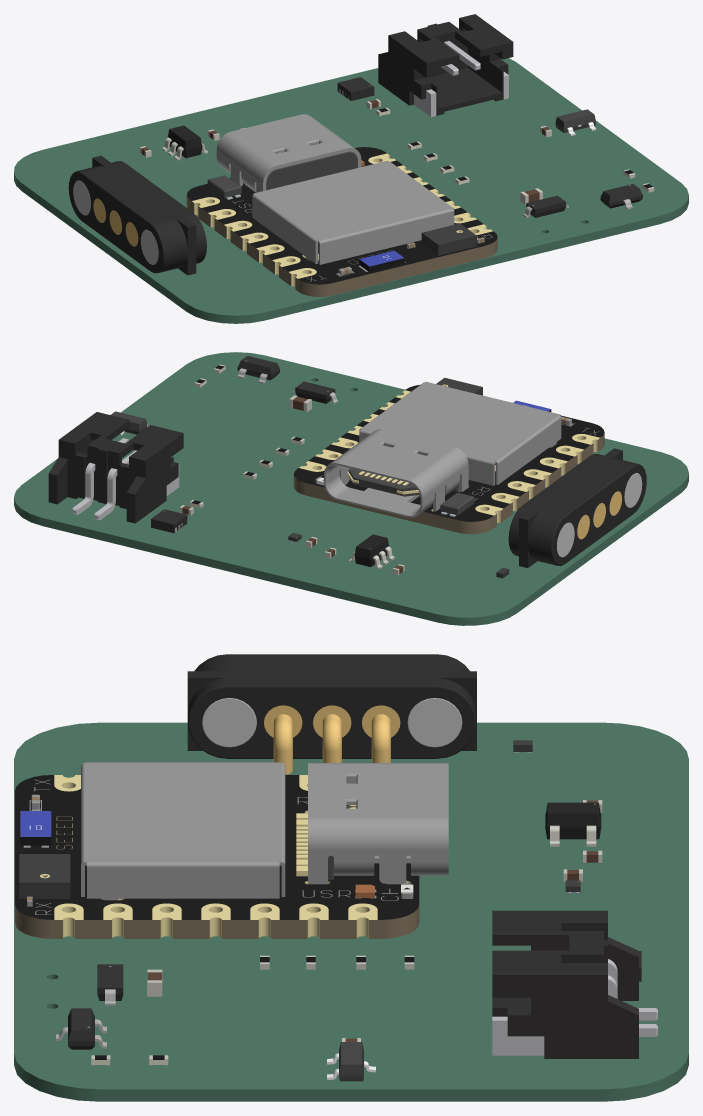
File: wearable_tracker.glb
3 views of the same model, one above another, from view 1: azimuth 30°, elevation 25°; view 2: azimuth 150°, elevation 25°; view 3: azimuth 270°, elevation 25° (orthographic). The views are drawn at different scales.
Visible parts, largest first — view 1: =>[0:1:1:81], Shield:1, =>0:1:1:73, temp_import.SLDPRT, Housing:1, CHAMFER9:1, CUT-EXTRUDE5:1, =>0:1:1:76, =>[0:1:1:18], Magnet:1, =>[0:1:1:7], Pins:1 (+5 smaller); view 2: =>[0:1:1:81], Shield:1, temp_import.SLDPRT, =>0:1:1:73, Housing:1, CHAMFER9:1, =>[0:1:1:18], Magnet:1, MIRROR2:1, =>[0:1:1:7], Pins:1, =>[0:1:1:33] (+2 smaller); view 3: =>[0:1:1:81], Shield:1, =>0:1:1:73, Housing:1, temp_import.SLDPRT, CHAMFER9:1, Pins:1, Magnet:1, =>0:1:1:76, =>[0:1:1:18], =>[0:1:1:7], ANT1:1 (+2 smaller).
Part boxes in pixels (left/top/right/bottom): =>[0:1:1:81]: left=14, top=58, right=688, bottom=323; Shield:1: left=252, top=160, right=454, bottom=264; =>0:1:1:73: left=186, top=147, right=497, bottom=296; temp_import.SLDPRT: left=378, top=14, right=513, bottom=117; Housing:1: left=68, top=155, right=206, bottom=275; CHAMFER9:1: left=216, top=114, right=361, bottom=192; CUT-EXTRUDE5:1: left=266, top=151, right=357, bottom=190; =>0:1:1:76: left=421, top=223, right=476, bottom=255; =>[0:1:1:18]: left=162, top=125, right=207, bottom=160; Magnet:1: left=73, top=180, right=158, bottom=264; =>[0:1:1:7]: left=600, top=184, right=642, bottom=209; Pins:1: left=93, top=198, right=138, bottom=246; =>[0:1:1:81]: left=14, top=352, right=688, bottom=625; Shield:1: left=359, top=381, right=561, bottom=485; temp_import.SLDPRT: left=48, top=412, right=183, bottom=523; =>0:1:1:73: left=293, top=385, right=604, bottom=534; Housing:1: left=508, top=448, right=646, bottom=567; CHAMFER9:1: left=324, top=429, right=468, bottom=517; =>[0:1:1:18]: left=349, top=534, right=394, bottom=569; Magnet:1: left=557, top=473, right=642, bottom=557; MIRROR2:1: left=347, top=468, right=419, bottom=496; =>[0:1:1:7]: left=237, top=356, right=279, bottom=383; Pins:1: left=577, top=491, right=621, bottom=539; =>[0:1:1:33]: left=292, top=381, right=338, bottom=403; =>[0:1:1:81]: left=14, top=722, right=688, bottom=1101; Shield:1: left=81, top=762, right=285, bottom=900; =>0:1:1:73: left=15, top=775, right=419, bottom=938; Housing:1: left=187, top=654, right=476, bottom=758; temp_import.SLDPRT: left=492, top=910, right=657, bottom=1058; CHAMFER9:1: left=308, top=763, right=448, bottom=884; Pins:1: left=264, top=705, right=400, bottom=774; Magnet:1: left=202, top=698, right=462, bottom=747; =>0:1:1:76: left=19, top=854, right=70, bottom=898; =>[0:1:1:18]: left=545, top=802, right=601, bottom=846; =>[0:1:1:7]: left=56, top=1008, right=106, bottom=1049; ANT1:1: left=20, top=811, right=51, bottom=845.
Size of the model in its own units: 0.045 by 0.00733 by 0.035.
